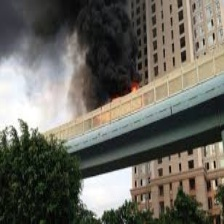smoke: (28, 1, 143, 93)
